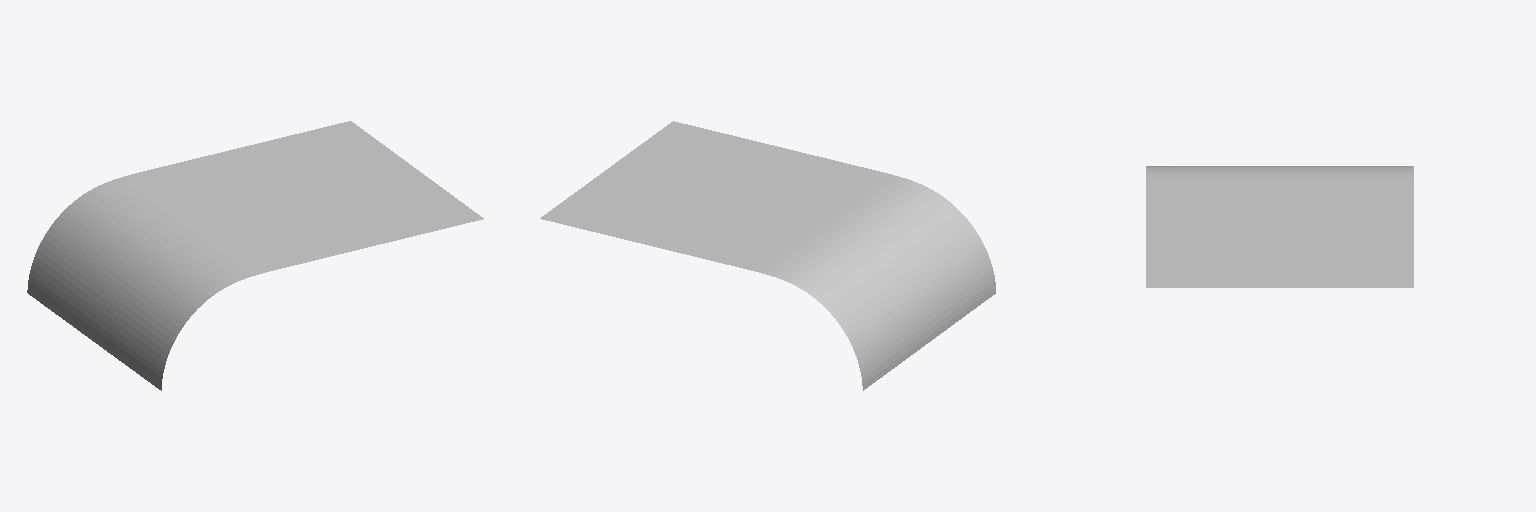
File: CurvePaper_000056.obj
3 renders of one model, left to right at view 1: azimuth 30°, elevation 25°; view 2: azimuth 150°, elevation 25°; view 3: azimuth 270°, elevation 25°, orthographic.
Parts seen in each view (by area): view 1: Plane; view 2: Plane; view 3: Plane.
Boxes of the visible parts, x1=… form: Plane: x1=27, y1=121, x2=483, y2=390; Plane: x1=540, y1=121, x2=995, y2=390; Plane: x1=1146, y1=166, x2=1413, y2=287.
Size of the model in its own units: 3.15 by 0.8719 by 2.26.